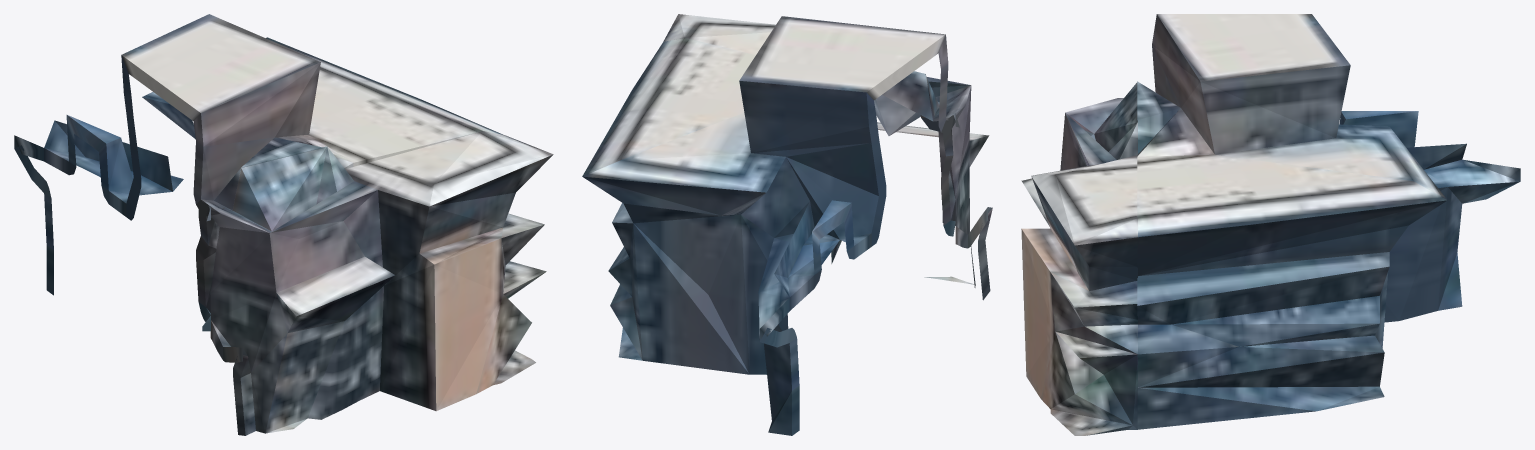
The model's file is chunk_1_1.glb.
3 renders of one model, left to right at view 1: azimuth 30°, elevation 25°; view 2: azimuth 150°, elevation 25°; view 3: azimuth 270°, elevation 25°, orthographic. The views are drawn at different scales.
Visible parts, largest first — view 1: hero-chunk; view 2: hero-chunk; view 3: hero-chunk.
Part boxes in pixels (<box>): hero-chunk: <box>14,14,553,435</box>; hero-chunk: <box>582,14,992,435</box>; hero-chunk: <box>1021,14,1520,435</box>.
Bounding box in the file's own units: 22.79 × 20.09 × 31.67.
2 materials, 2 textured.
